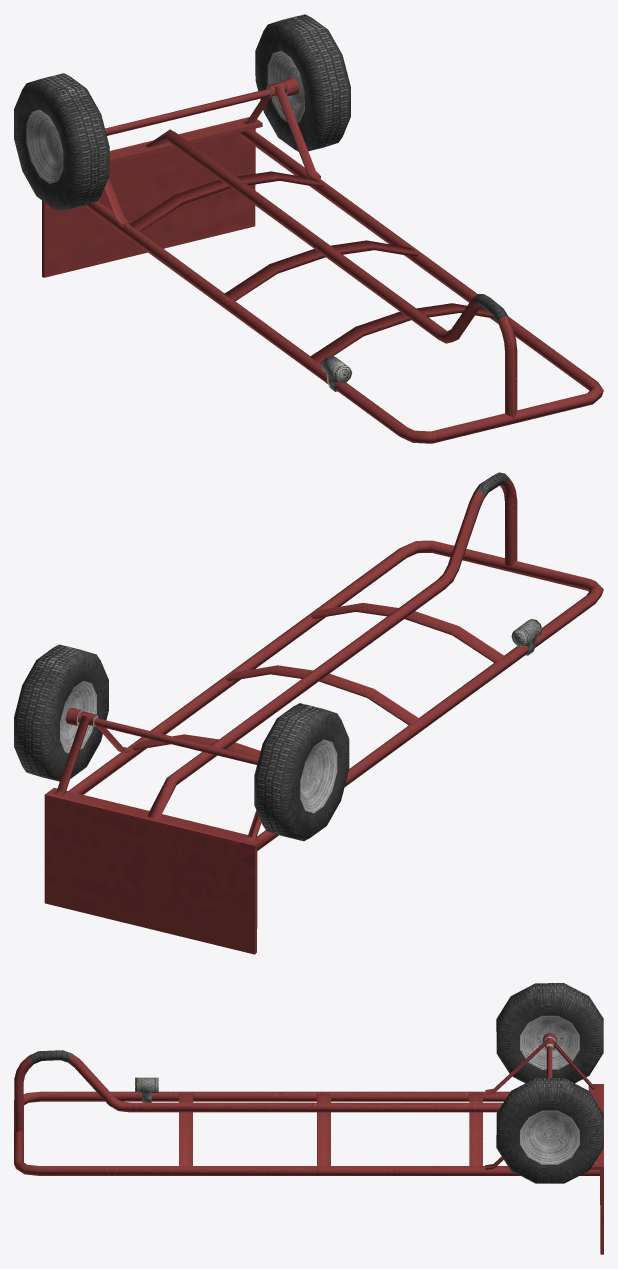
File: nt_2020_dolly_01_LOD0.obj
3 views of the same model, one above another, from view 1: azimuth 30°, elevation 25°; view 2: azimuth 150°, elevation 25°; view 3: azimuth 270°, elevation 25° (orthographic). The views are drawn at different scales.
Parts seen in each view (by area): view 1: mtl_nt_2020_dolly_01; view 2: mtl_nt_2020_dolly_01; view 3: mtl_nt_2020_dolly_01.
Boxes of the visible parts, box(x1,y1,x2,y2) form: mtl_nt_2020_dolly_01: box(14, 14, 603, 443); mtl_nt_2020_dolly_01: box(14, 472, 603, 954); mtl_nt_2020_dolly_01: box(14, 983, 603, 1254).
Size of the model in its own units: 64.73 by 49.95 by 149.
